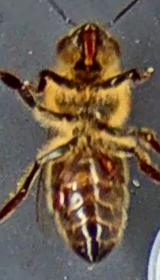varroa_mite: (48, 178, 72, 215), (90, 148, 120, 176)
